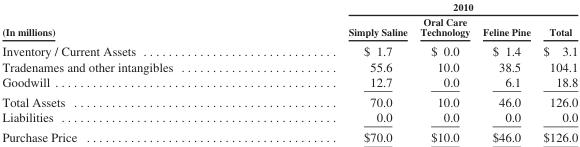table: (1, 0, 577, 144)
table column: (1, 0, 260, 144), (260, 0, 413, 144), (413, 0, 475, 144), (475, 0, 536, 144), (536, 0, 577, 144)
table column header: (1, 0, 577, 40)
table row: (1, 14, 577, 40), (1, 40, 577, 58), (1, 73, 577, 91), (1, 91, 577, 109), (1, 126, 577, 144), (1, 109, 577, 126), (1, 58, 577, 73), (1, 0, 577, 14)
table spanning cell: (1, 0, 260, 40), (260, 0, 577, 14)
